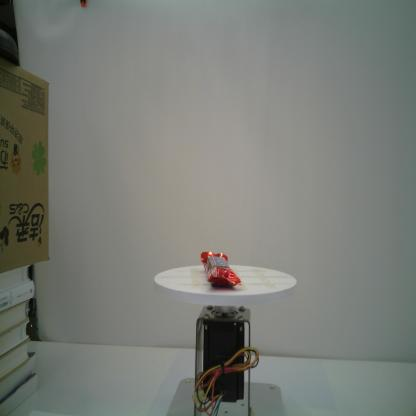Chocolate: (198, 249, 243, 291)
